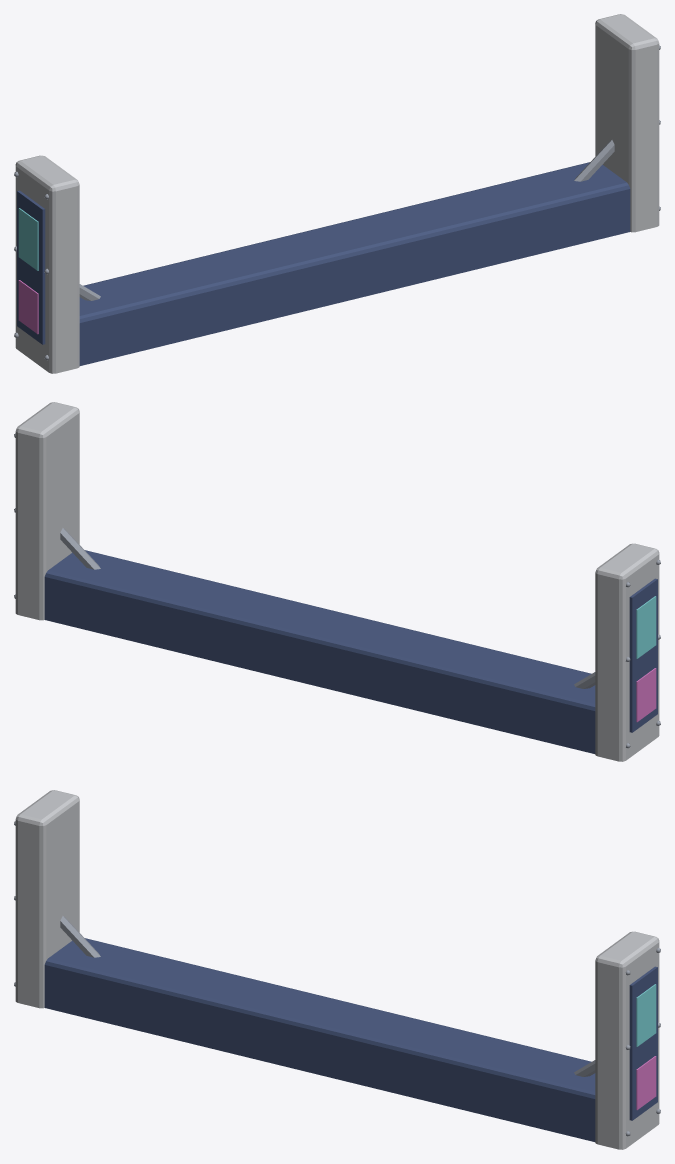
The model's file is rn2-orbital-rib.glb.
3 views of the same model, one above another, from view 1: azimuth 30°, elevation 25°; view 2: azimuth 150°, elevation 25°; view 3: azimuth 330°, elevation 25° (orthographic).
Visible parts, largest first — view 1: rn2_orbital_rib_body, rn2_orbital_rib_glow; view 2: rn2_orbital_rib_body, rn2_orbital_rib_glow; view 3: rn2_orbital_rib_body, rn2_orbital_rib_glow.
Boxes of the visible parts, bbox=[...] form: rn2_orbital_rib_body: bbox=[14, 14, 660, 373]; rn2_orbital_rib_glow: bbox=[18, 208, 38, 334]; rn2_orbital_rib_body: bbox=[14, 402, 660, 761]; rn2_orbital_rib_glow: bbox=[636, 596, 656, 722]; rn2_orbital_rib_body: bbox=[14, 790, 660, 1149]; rn2_orbital_rib_glow: bbox=[636, 984, 656, 1110].
Bounding box in the file's own units: 11.26 × 3.25 × 1.2.
